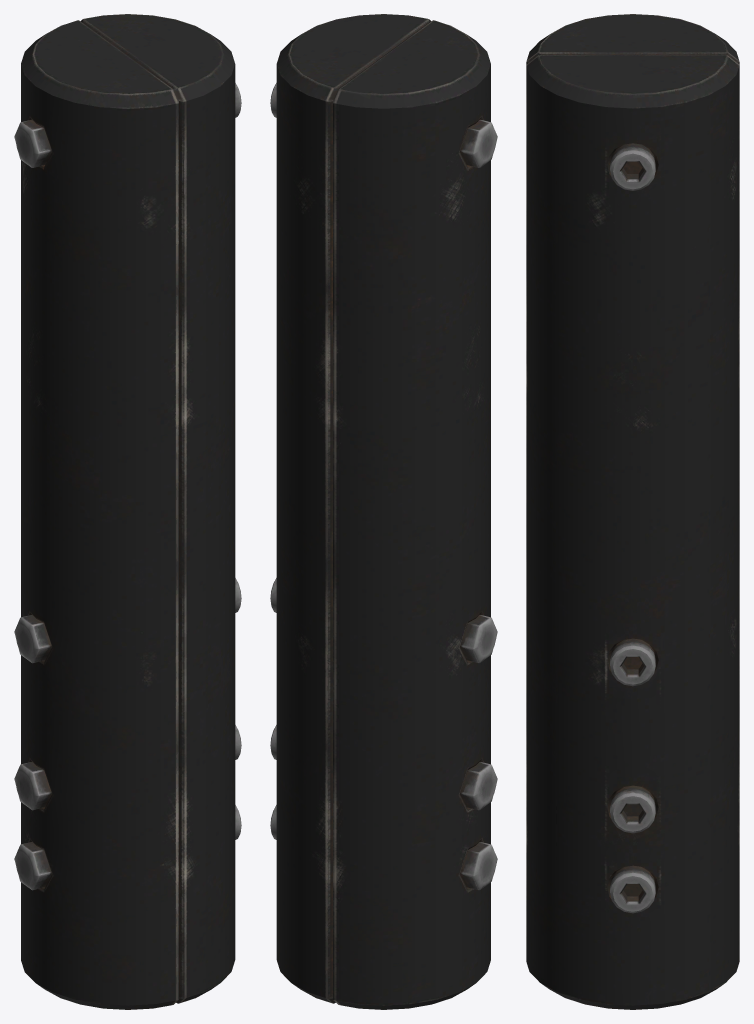
File: Neck_Hammer_10.glb
3 views of the same model, side by side, from view 1: azimuth 30°, elevation 25°; view 2: azimuth 150°, elevation 25°; view 3: azimuth 270°, elevation 25° (orthographic).
Parts seen in each view (by area): view 1: Neck_Hammer_10_LOD0; view 2: Neck_Hammer_10_LOD0; view 3: Neck_Hammer_10_LOD0.
Boxes of the visible parts, <box> form: Neck_Hammer_10_LOD0: <box>14,14,241,1009</box>; Neck_Hammer_10_LOD0: <box>270,14,497,1009</box>; Neck_Hammer_10_LOD0: <box>526,14,739,1009</box>.
Bounding box in the file's own units: 0.0421 × 0.1782 × 0.0376.
1 material, 1 textured.
